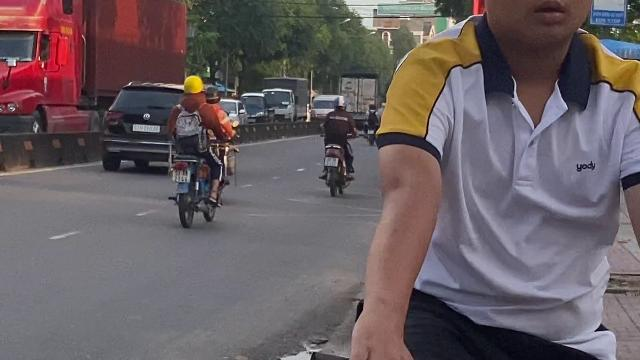helmet: (182, 76, 204, 96), (203, 85, 220, 104)
licenseplate: (171, 168, 189, 180)
motorcyclist: (162, 72, 230, 228)
